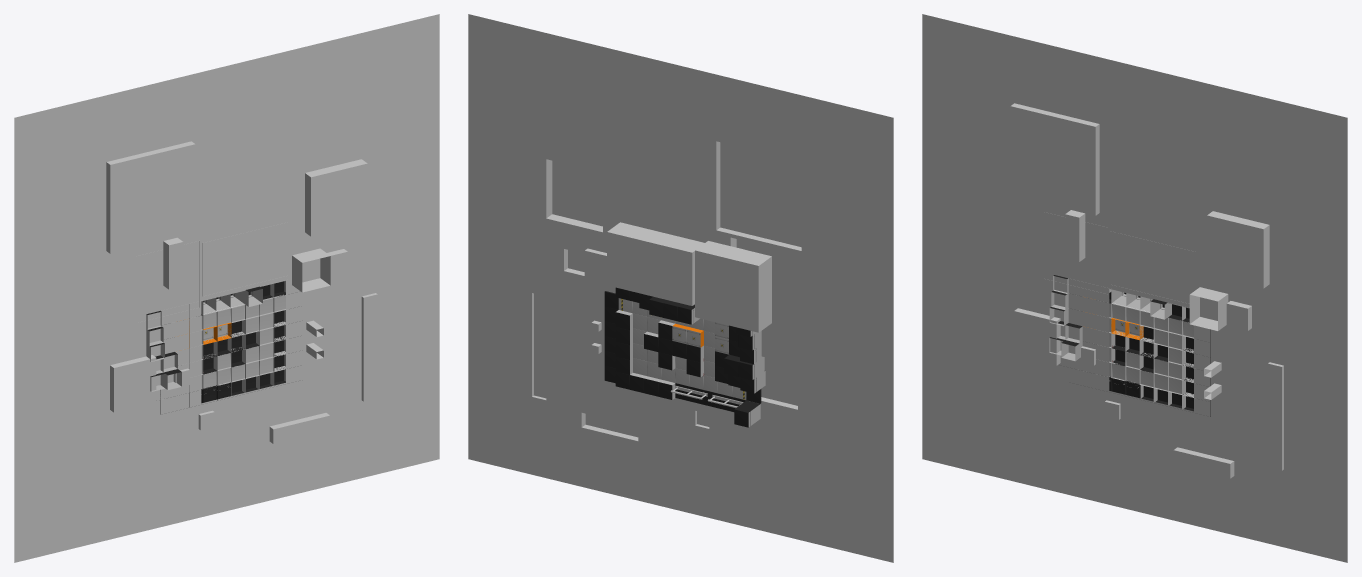
Rendered from BATTLE.fbx.
3 views of the same model, side by side, from view 1: azimuth 30°, elevation 25°; view 2: azimuth 150°, elevation 25°; view 3: azimuth 330°, elevation 25° (orthographic).
Visible parts, largest first — view 1: BG_TR, S_groud_outsaid_1, S_background_1; view 2: BG_TR, S_background_1, S_groud_outsaid_1; view 3: BG_TR, S_groud_outsaid_1, S_background_1.
Boxes of the visible parts, x1,y1,x2,y2 form: BG_TR: [14, 14, 439, 562]; S_groud_outsaid_1: [160, 286, 262, 414]; S_background_1: [199, 241, 330, 359]; BG_TR: [468, 14, 893, 562]; S_background_1: [584, 222, 771, 353]; S_groud_outsaid_1: [604, 291, 761, 427]; BG_TR: [922, 14, 1347, 562]; S_groud_outsaid_1: [1061, 290, 1210, 416]; S_background_1: [1109, 287, 1228, 399].
Bounding box in the file's own units: 0.3 × 0.3 × 0.0287.
Materials: 2 (1 with a texture image).
